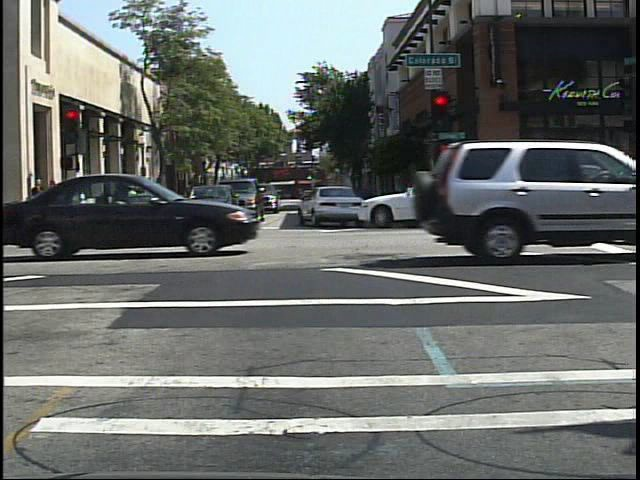person: (121, 181, 141, 224), (135, 181, 150, 218)
